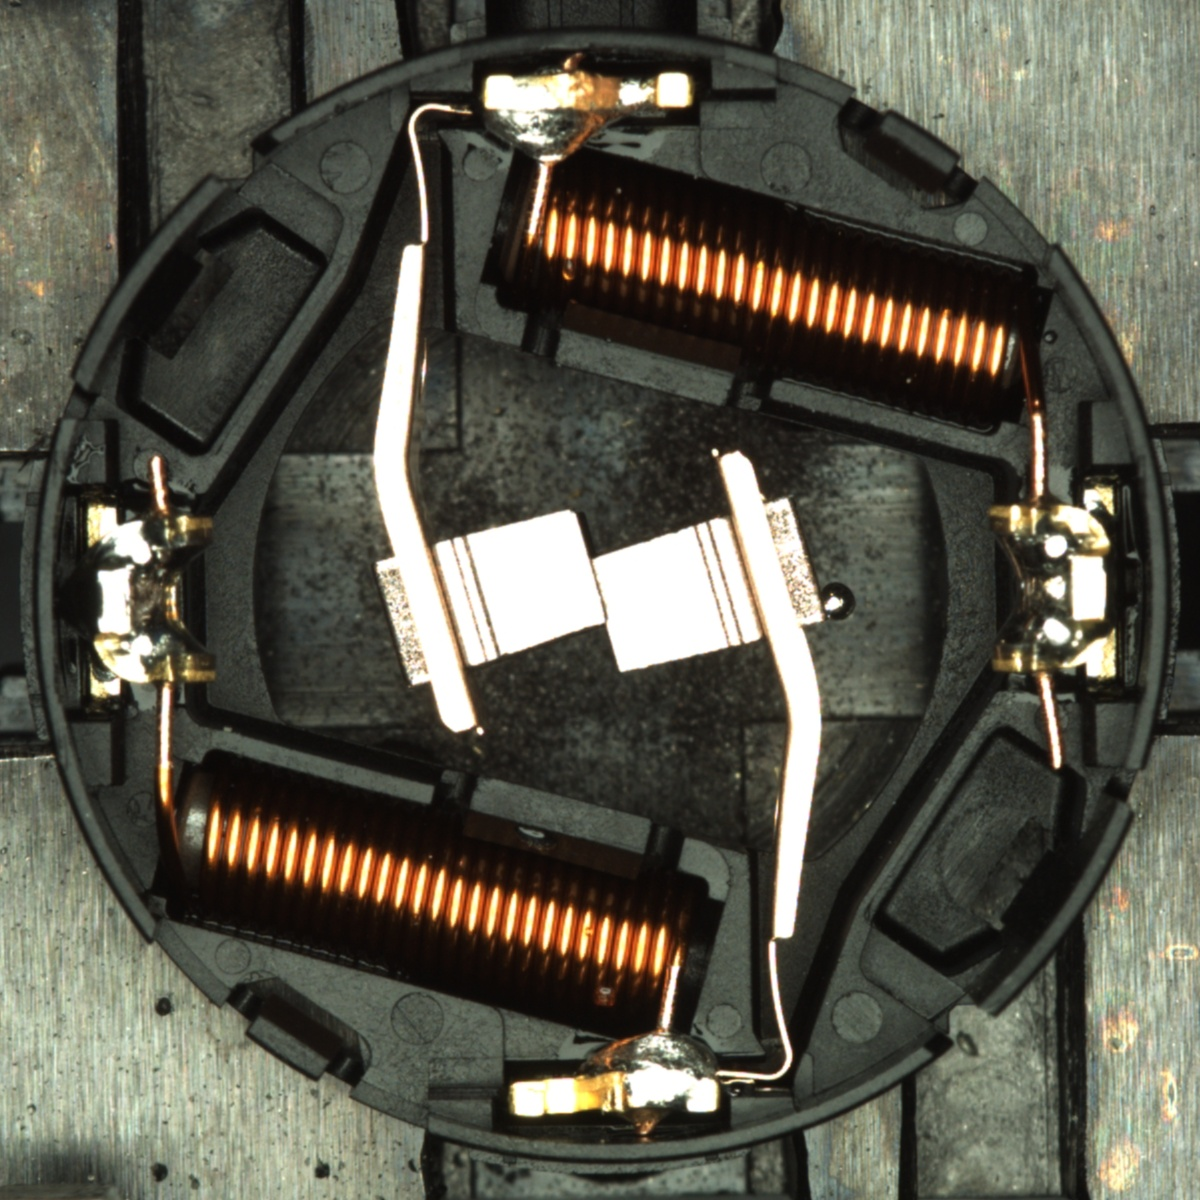1: (258, 55, 487, 279), (716, 953, 945, 1177)
2: (716, 55, 945, 279), (258, 953, 487, 1177)
3: (29, 279, 258, 503), (945, 729, 1175, 953)
4: (258, 279, 487, 503), (716, 729, 945, 953)
5: (487, 167, 716, 391), (487, 841, 716, 1065)
6: (716, 279, 945, 503), (258, 729, 487, 953)
7: (945, 279, 1175, 503), (29, 729, 258, 953)
chau_dien: (984, 486, 1122, 684)
hat_chi: (819, 582, 856, 621)
tay_choi: (480, 68, 697, 170), (505, 1024, 722, 1121)
thanh_de: (954, 784, 1142, 1033), (59, 164, 244, 405)
